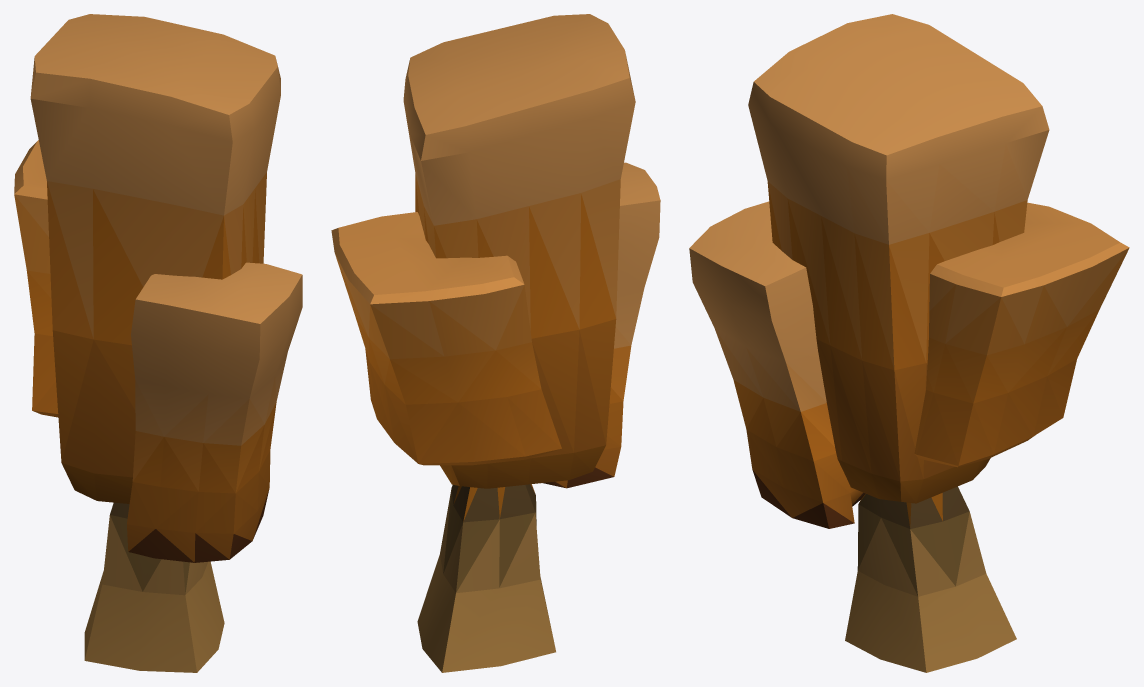
Rendered from angular_tree_block__autumn.glb.
The picture shows the model from 3 angles, left to right: view 1: azimuth 30°, elevation 25°; view 2: azimuth 150°, elevation 25°; view 3: azimuth 270°, elevation 25°; orthographic projection. The views are drawn at different scales.
Size of the model in its own units: 2.14 by 4.8 by 3.36.
